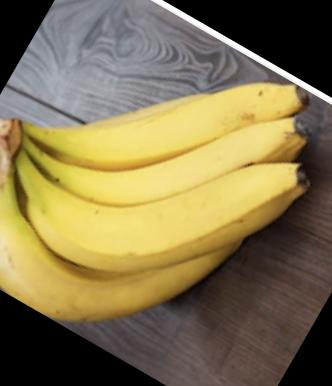Banana Ripe: (0, 22, 326, 379)
